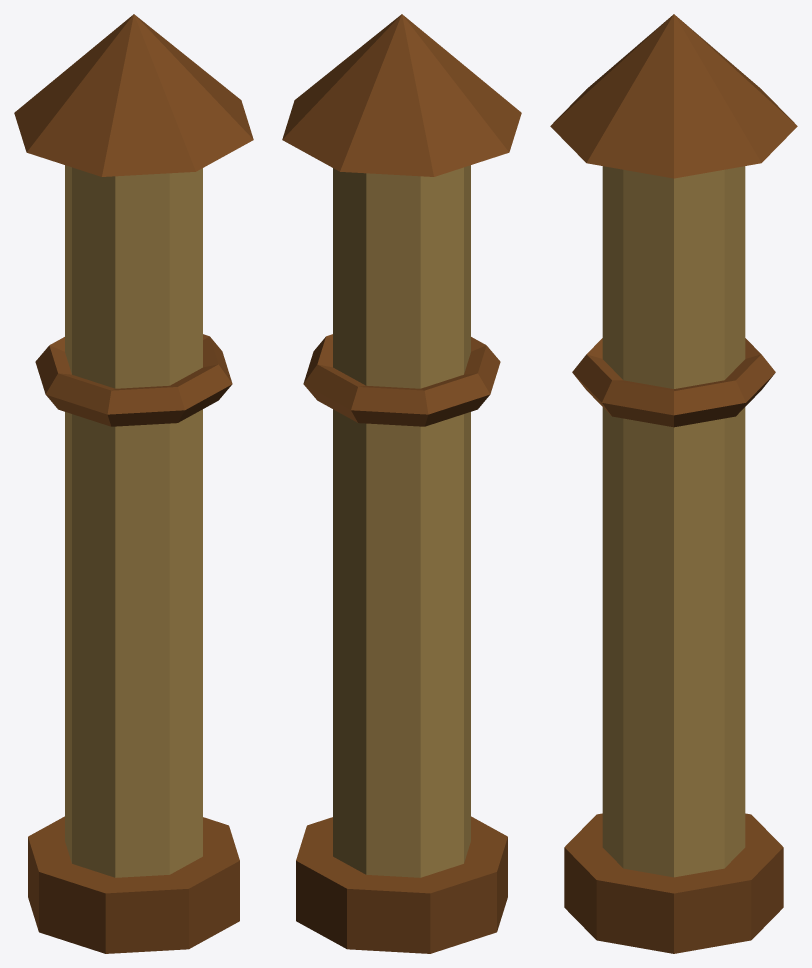
Rendered from gate_post.glb.
3 views of the same model, side by side, from view 1: azimuth 30°, elevation 25°; view 2: azimuth 150°, elevation 25°; view 3: azimuth 270°, elevation 25° (orthographic).
Parts seen in each view (by area): view 1: Cone; view 2: Cone; view 3: Cone.
Boxes of the visible parts, box(x1,y1,x2,y2) form: Cone: box(14, 14, 253, 953); Cone: box(282, 14, 521, 953); Cone: box(550, 14, 797, 953).
Size of the model in its own units: 0.624 by 2.48 by 0.624.
